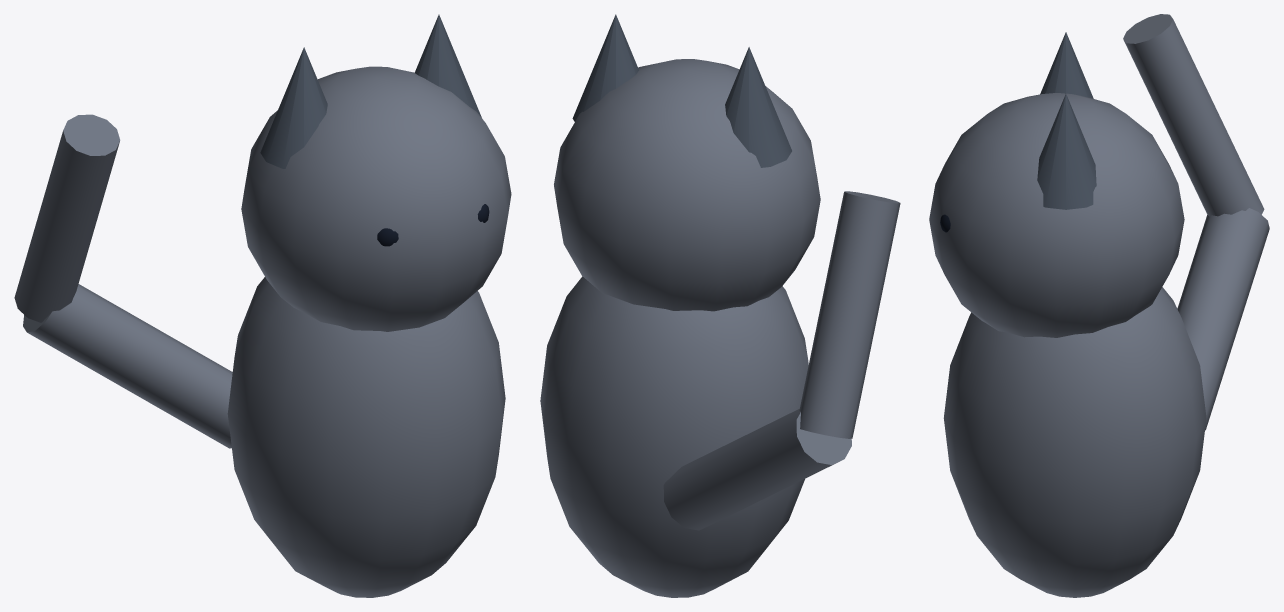
3 views of the same model, side by side, from view 1: azimuth 30°, elevation 25°; view 2: azimuth 150°, elevation 25°; view 3: azimuth 270°, elevation 25° (orthographic). The views are drawn at different scales.
Visible parts, largest first — view 1: cat-sitting; view 2: cat-sitting; view 3: cat-sitting.
Boxes of the visible parts, left/top/right/bottom form: cat-sitting: left=14, top=14, right=511, bottom=597; cat-sitting: left=540, top=14, right=900, bottom=597; cat-sitting: left=929, top=14, right=1269, bottom=597.
Bounding box in the file's own units: 0.454 × 0.637 × 0.3734.
